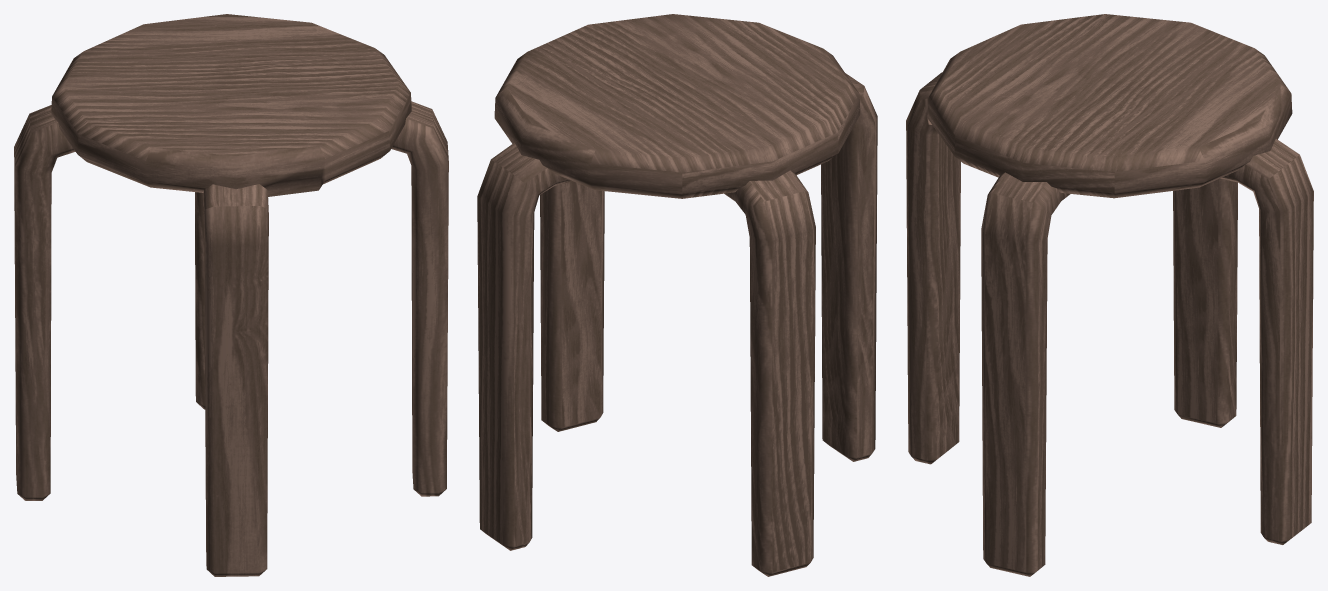
Rendered from chair_023.fbx.
3 views of the same model, side by side, from view 1: azimuth 30°, elevation 25°; view 2: azimuth 150°, elevation 25°; view 3: azimuth 270°, elevation 25° (orthographic).
Parts seen in each view (by area): view 1: chair_023; view 2: chair_023; view 3: chair_023.
Part boxes in pixels (<box>): chair_023: <box>14,14,448,576</box>; chair_023: <box>477,14,877,576</box>; chair_023: <box>906,14,1313,576</box>.
Bounding box in the file's own units: 53.47 × 53.4 × 59.07.
